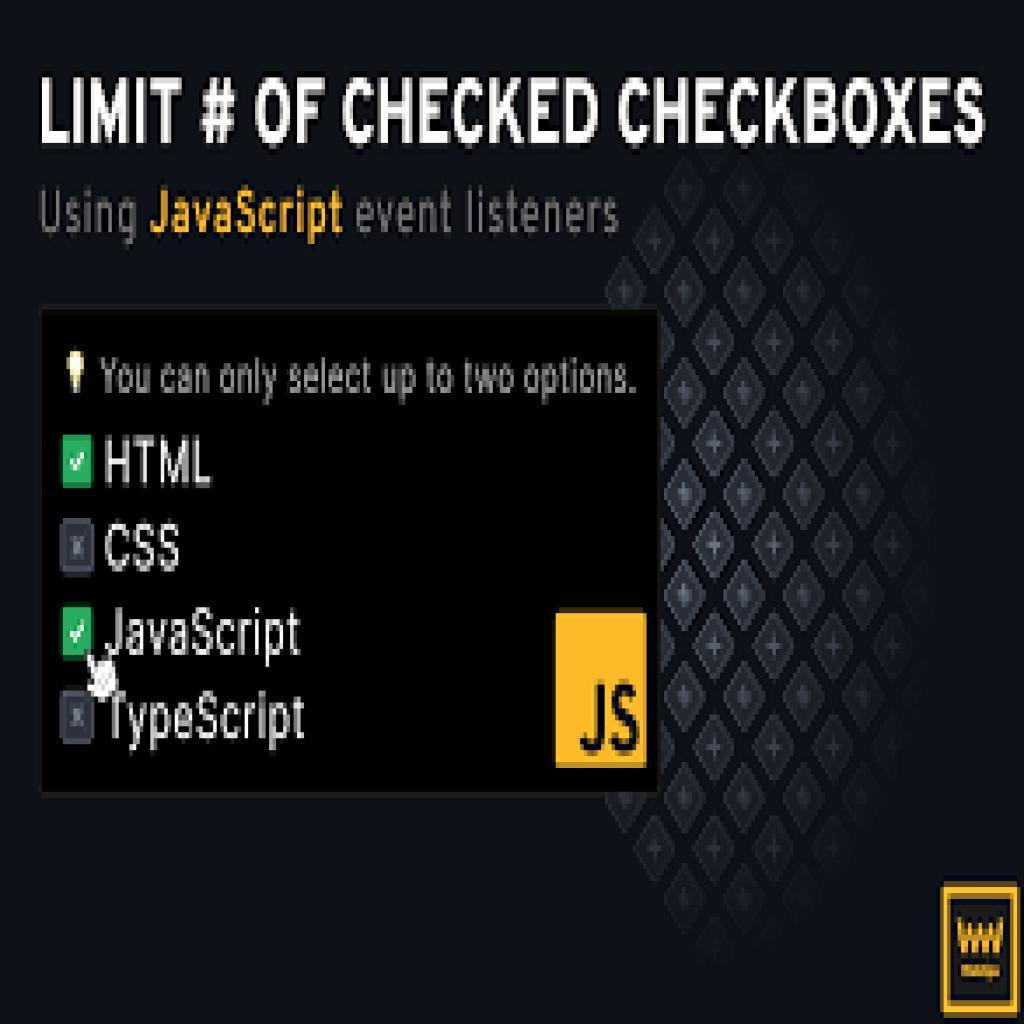checkbox: (59, 518, 97, 575), (60, 608, 97, 662), (60, 695, 96, 748), (63, 435, 93, 488)
label: (104, 690, 315, 755), (101, 606, 306, 672), (105, 426, 216, 493), (102, 518, 188, 577)
